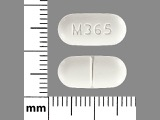Acetaminophen 325 MG Oral Tablet: (55, 11, 130, 49), (57, 54, 130, 92)
